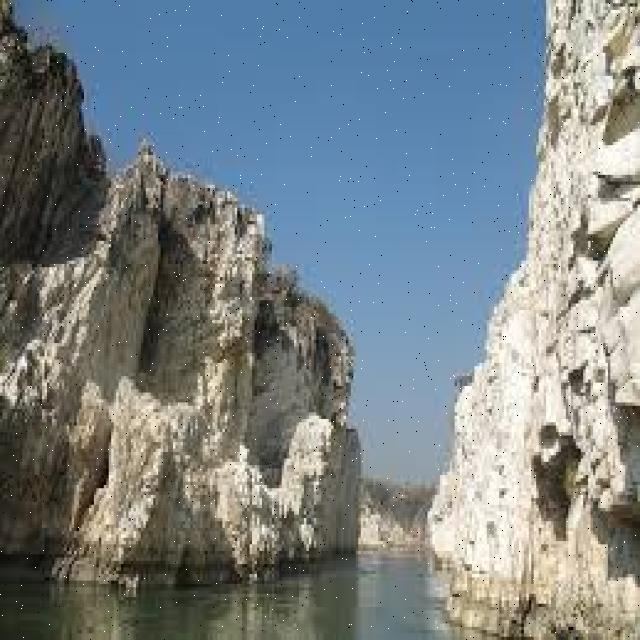Metamorphic: (3, 26, 378, 558), (440, 3, 640, 630)
